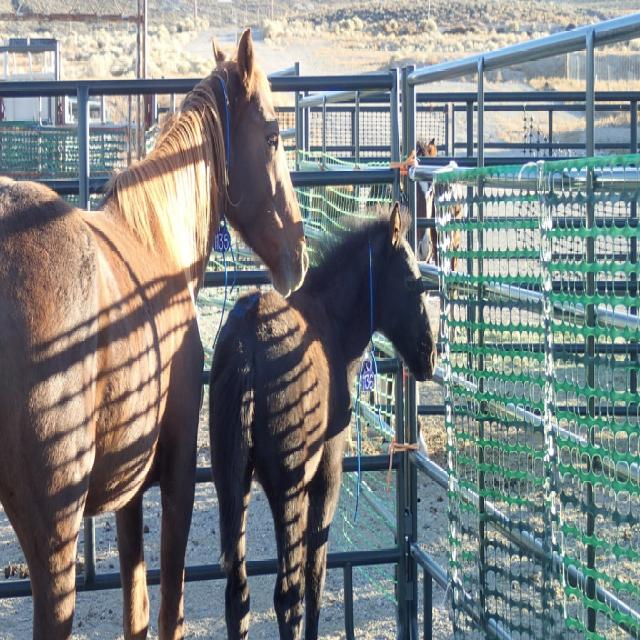Horse: (0, 19, 312, 639), (204, 192, 439, 640)
